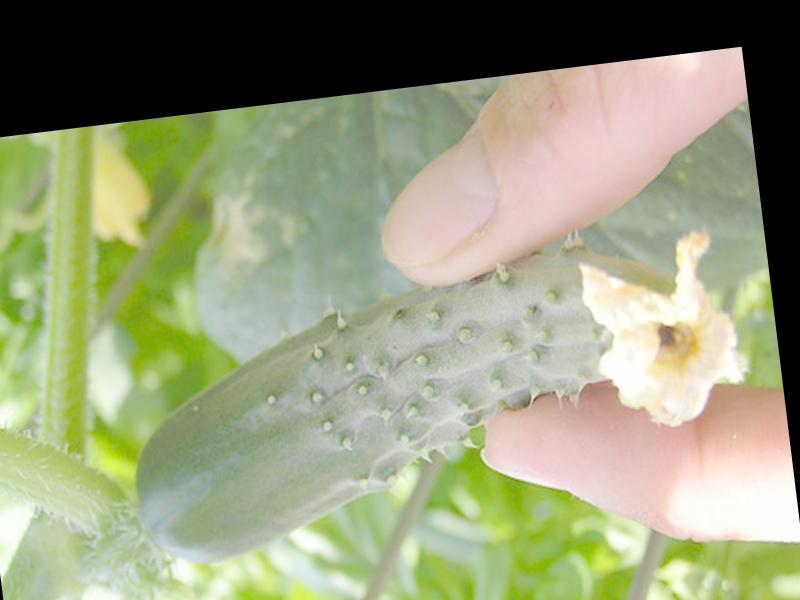Cucumber: (110, 228, 756, 567)
